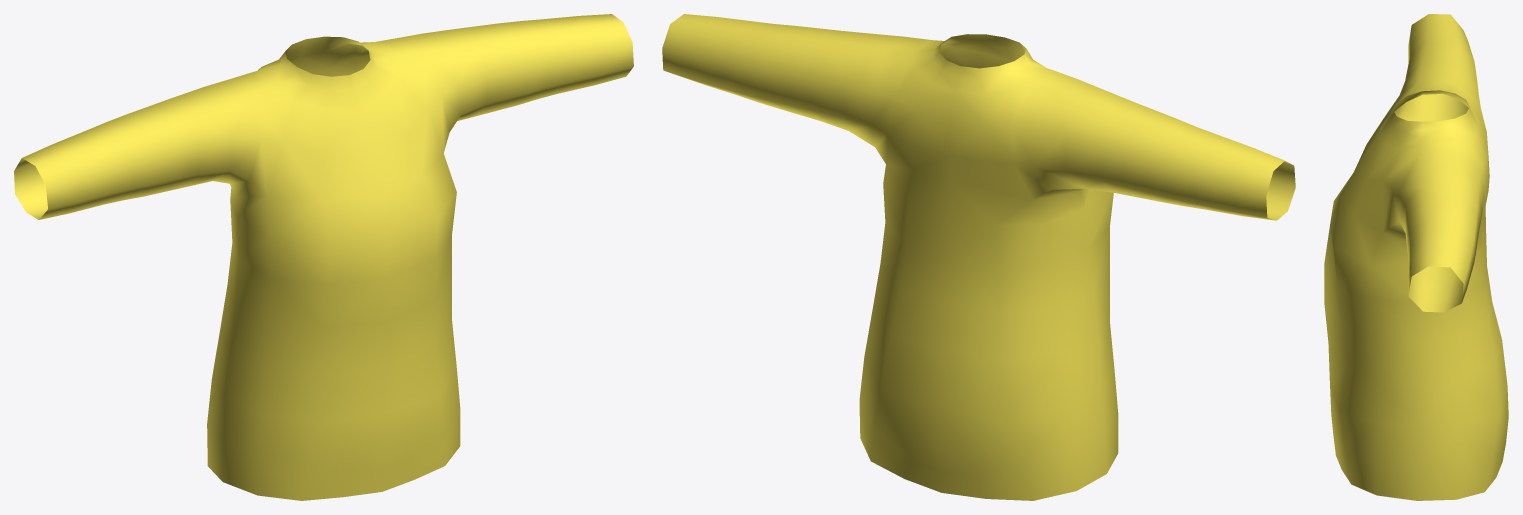
The model's file is Outerwear_Yellow_005.glb.
The picture shows the model from 3 angles, left to right: view 1: azimuth 30°, elevation 25°; view 2: azimuth 150°, elevation 25°; view 3: azimuth 270°, elevation 25°; orthographic projection. The views are drawn at different scales.
Parts seen in each view (by area): view 1: Outerwear_Yellow_005; view 2: Outerwear_Yellow_005; view 3: Outerwear_Yellow_005.
Part boxes in pixels (box(x1,y1,x2,y2)): Outerwear_Yellow_005: box(14, 14, 633, 500); Outerwear_Yellow_005: box(662, 14, 1295, 500); Outerwear_Yellow_005: box(1324, 14, 1508, 500).
Size of the model in its own units: 1.22 by 0.8008 by 0.3763.
Materials: 1 (1 with a texture image).
